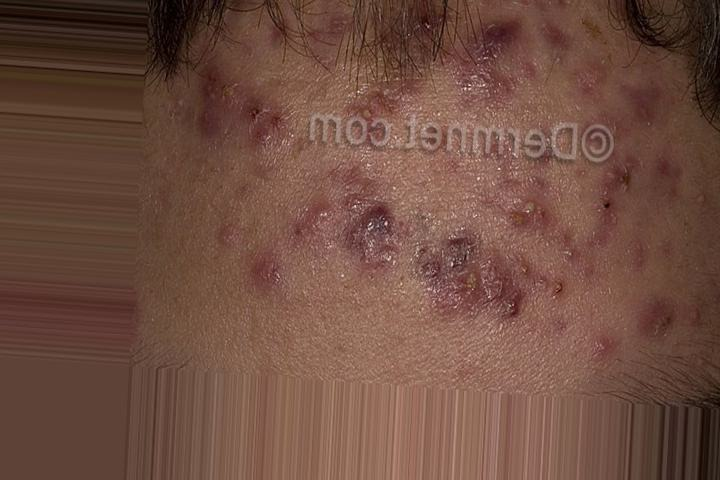Acne: (187, 22, 701, 357)
